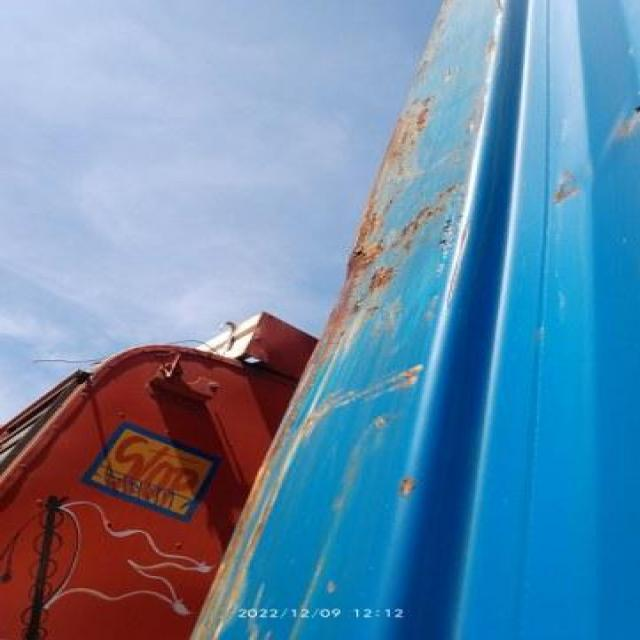rust: (297, 95, 462, 389)
